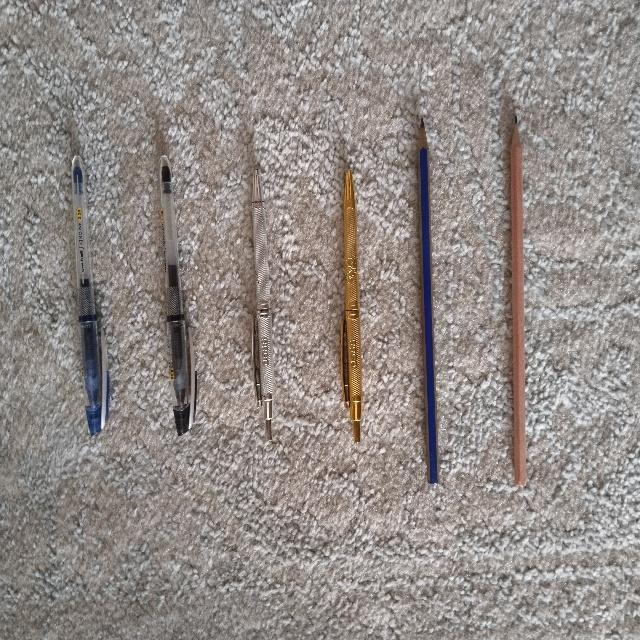pen: (72, 156, 108, 435), (160, 156, 196, 434)
pencil: (419, 119, 438, 483), (510, 116, 525, 485)
signature pen: (341, 170, 362, 442), (252, 170, 273, 439)
